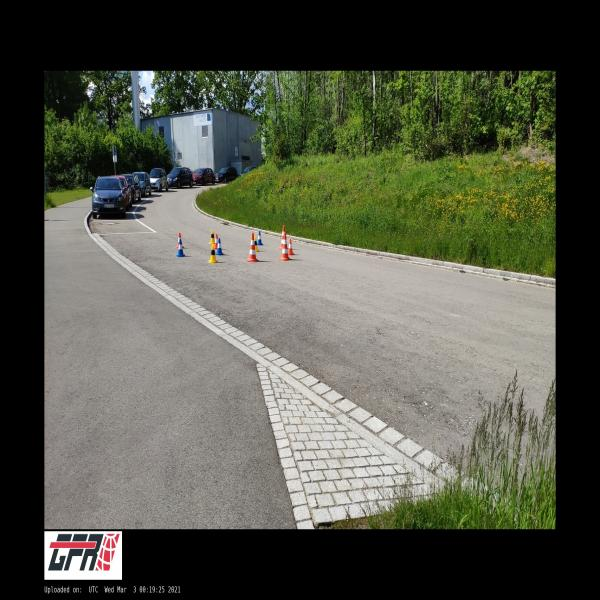blue_cone: (176, 240, 185, 256), (216, 238, 223, 254), (257, 232, 263, 245)
large_orange_cone: (246, 232, 258, 262), (279, 232, 291, 260), (279, 225, 287, 249)
orange_cone: (520, 506, 541, 529), (176, 233, 184, 248), (287, 240, 294, 255), (214, 234, 218, 249)
yellow_cone: (210, 244, 218, 262), (254, 237, 259, 251), (210, 230, 215, 244)
